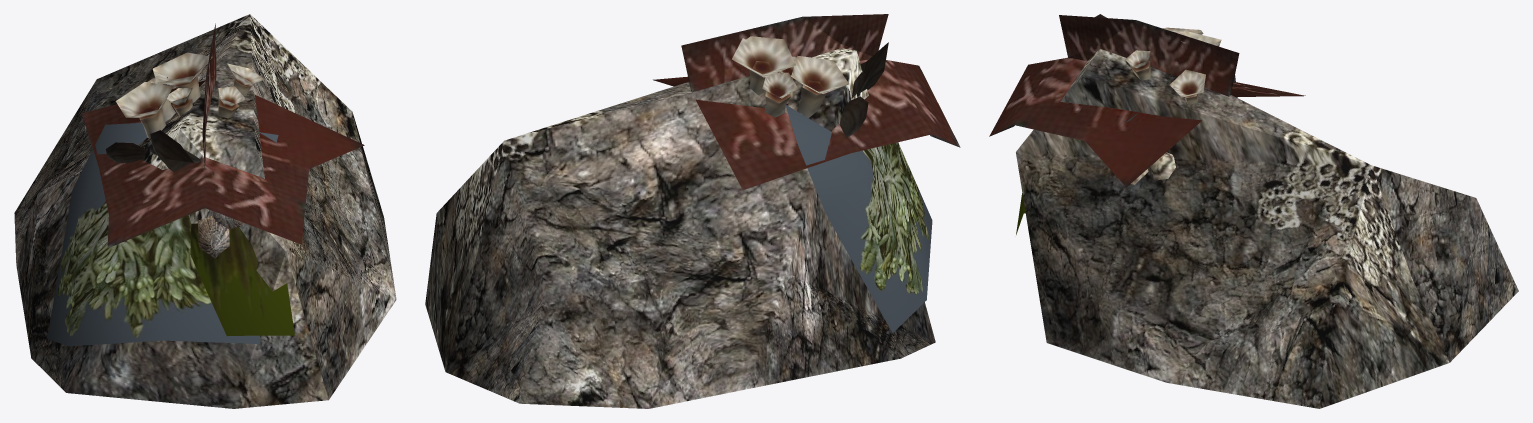
File: pir_m_prp_dvj_rock_h.fbx
The picture shows the model from 3 angles, left to right: view 1: azimuth 30°, elevation 25°; view 2: azimuth 150°, elevation 25°; view 3: azimuth 270°, elevation 25°; orthographic projection. The views are drawn at different scales.
Parts seen in each view (by area): view 1: lod_high.001, coral, seaweed1, seaweed10, limpet; view 2: lod_high.001, coral, seaweed1; view 3: lod_high.001, coral, barnacle8.
Part boxes in pixels (x1,y1,x2,y2): lod_high.001: [14, 14, 396, 408]; coral: [82, 23, 364, 247]; seaweed1: [47, 121, 278, 346]; seaweed10: [190, 223, 294, 336]; limpet: [198, 215, 229, 258]; lod_high.001: [425, 48, 935, 408]; coral: [653, 14, 960, 189]; seaweed1: [785, 105, 932, 333]; lod_high.001: [1016, 48, 1518, 408]; coral: [989, 14, 1305, 187]; barnacle8: [1148, 152, 1175, 180].
Size of the model in its own units: 918 by 656 by 1092.
3 materials, 3 textured.
